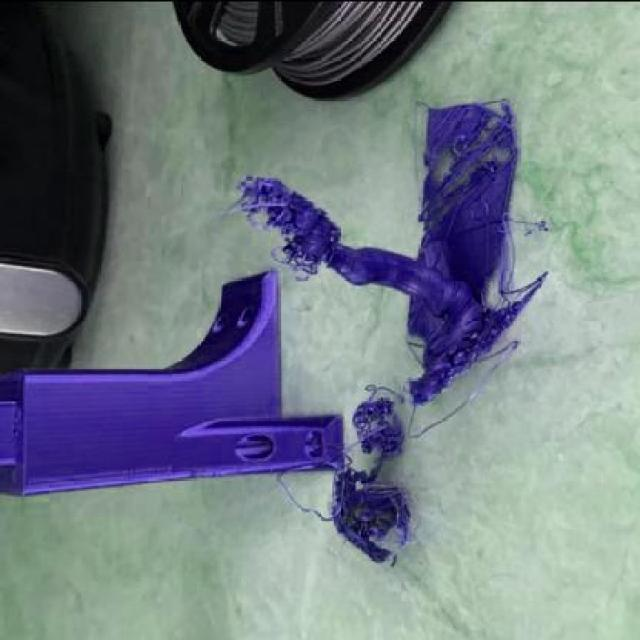spaghetti: (399, 207, 548, 438), (267, 381, 421, 575), (223, 165, 343, 284)
